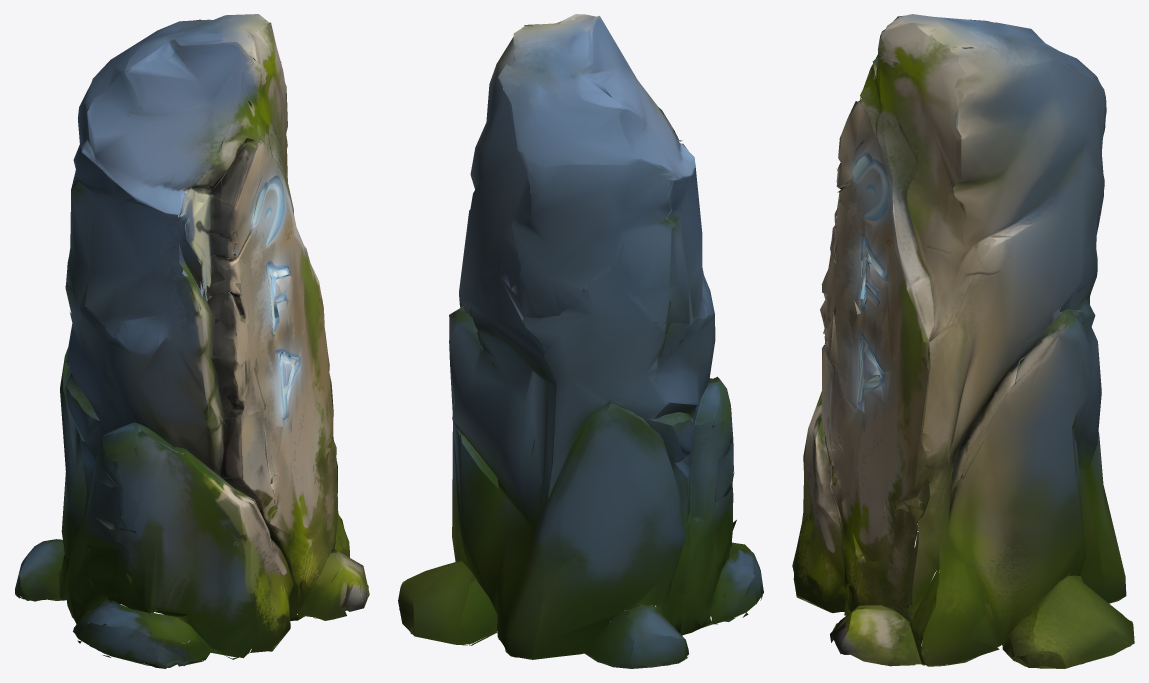
The model's file is stone_hy_runes.glb.
3 renders of one model, left to right at view 1: azimuth 30°, elevation 25°; view 2: azimuth 150°, elevation 25°; view 3: azimuth 270°, elevation 25°, orthographic. The views are drawn at different scales.
Visible parts, largest first — view 1: stone_hy_runes; view 2: stone_hy_runes; view 3: stone_hy_runes.
Boxes of the visible parts, x1,y1,x2,y2 form: stone_hy_runes: (15,14,369,668); stone_hy_runes: (398,14,763,668); stone_hy_runes: (792,14,1134,668).
Bounding box in the file's own units: 2.14 × 4.14 × 2.16.
Materials: 1 (1 with a texture image).
